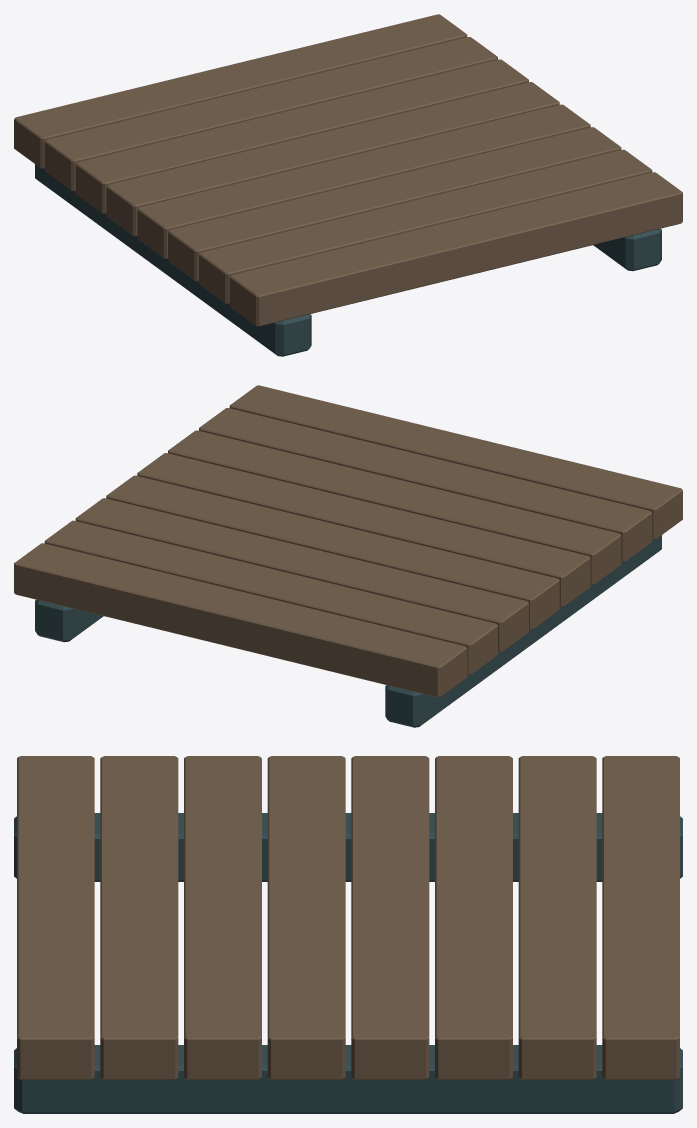
Rendered from floor-deck.glb.
3 renders of one model, top to bottom at view 1: azimuth 30°, elevation 25°; view 2: azimuth 150°, elevation 25°; view 3: azimuth 270°, elevation 25°, orthographic. The views are drawn at different scales.
Visible parts, largest first — view 1: floor-deck__body; view 2: floor-deck__body; view 3: floor-deck__body.
Boxes of the visible parts, x1=… form: floor-deck__body: x1=14, y1=14, x2=682, y2=356; floor-deck__body: x1=14, y1=385, x2=682, y2=727; floor-deck__body: x1=14, y1=756, x2=682, y2=1113.
Bounding box in the file's own units: 2 × 0.3 × 2.
